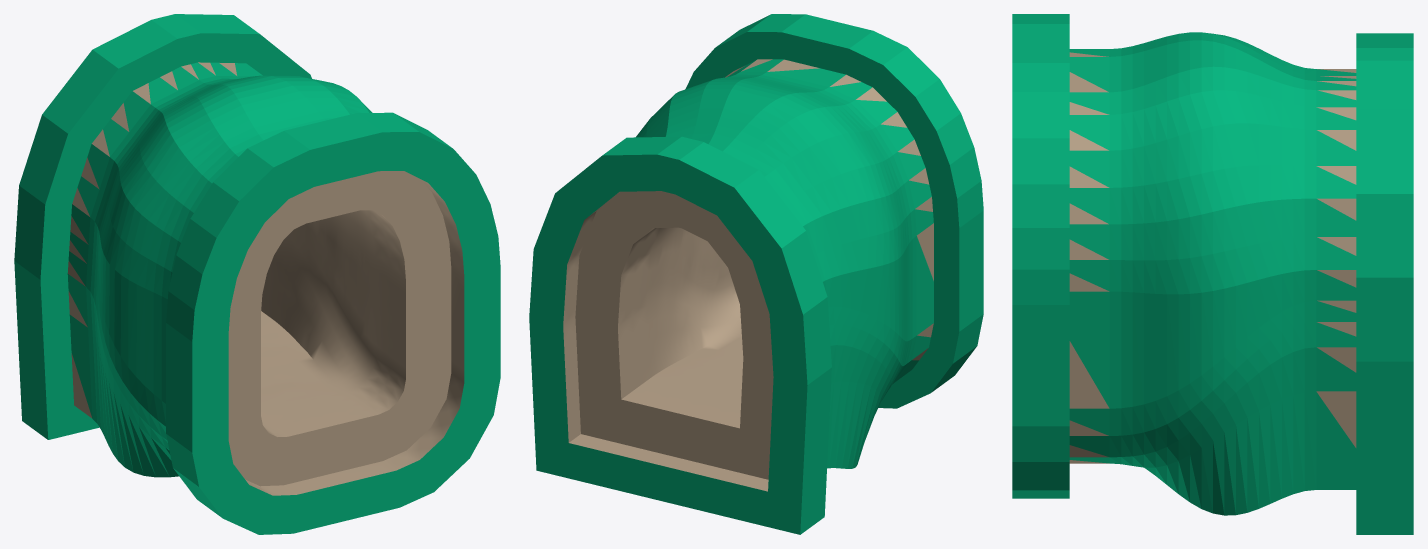
Rendered from TT_Adapter_Cave.fbx.
The picture shows the model from 3 angles, left to right: view 1: azimuth 30°, elevation 25°; view 2: azimuth 150°, elevation 25°; view 3: azimuth 270°, elevation 25°; orthographic projection. The views are drawn at different scales.
Visible parts, largest first — view 1: TT_Adapter_Cave_LOD0; view 2: TT_Adapter_Cave_LOD0; view 3: TT_Adapter_Cave_LOD0.
Part boxes in pixels (<box>): TT_Adapter_Cave_LOD0: <box>14,14,500,534</box>; TT_Adapter_Cave_LOD0: <box>529,14,983,534</box>; TT_Adapter_Cave_LOD0: <box>1012,14,1413,534</box>.
Bounding box in the file's own units: 340 × 400 × 350.
